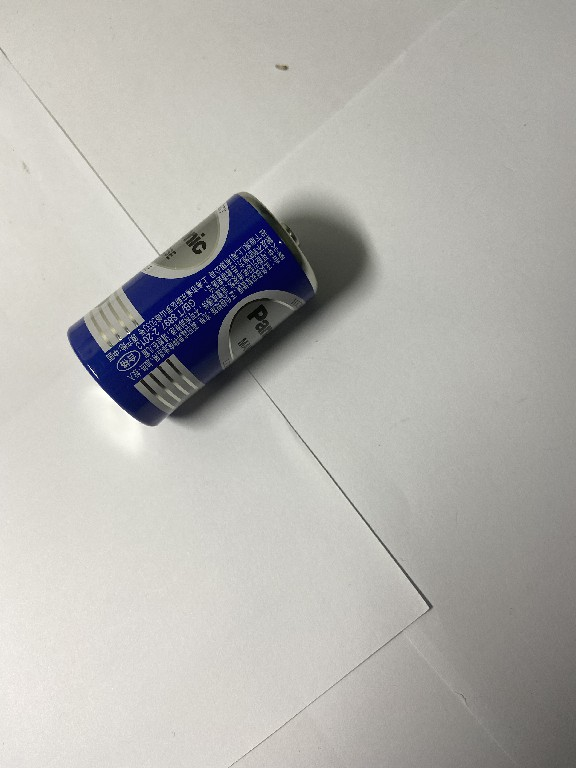charge: (63, 184, 324, 430)
